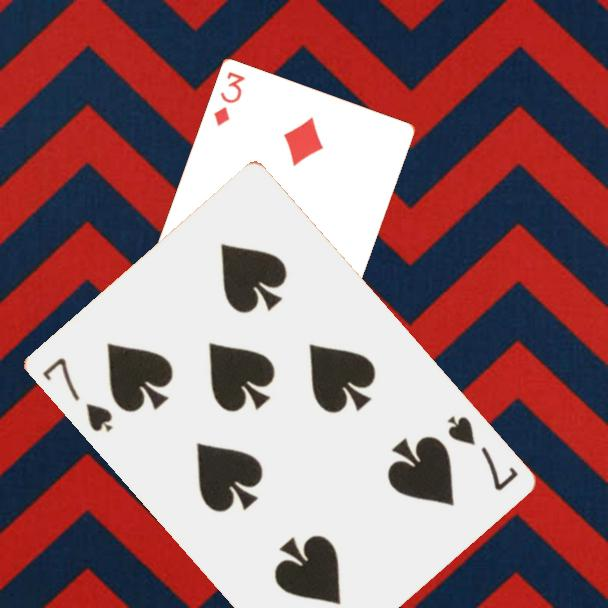d03: (210, 68, 248, 129)
s07: (443, 411, 521, 494), (38, 354, 115, 435)
